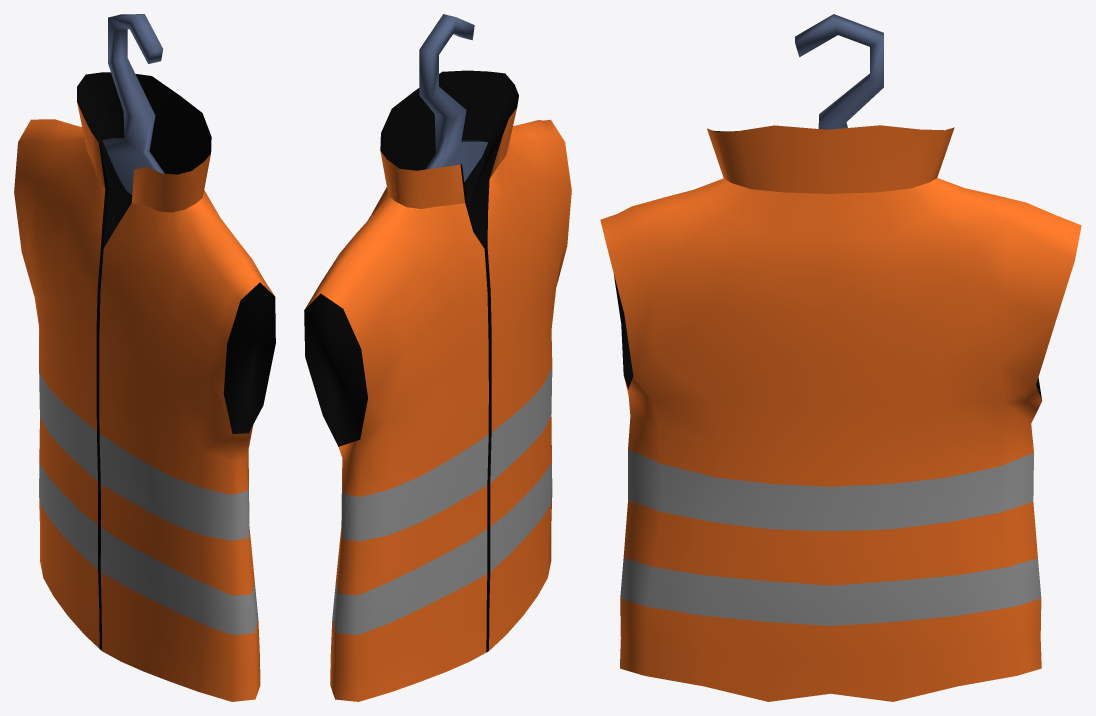
File: special_vest2.fbx
3 renders of one model, left to right at view 1: azimuth 30°, elevation 25°; view 2: azimuth 150°, elevation 25°; view 3: azimuth 270°, elevation 25°, orthographic. The views are drawn at different scales.
Visible parts, largest first — view 1: vest1.002; view 2: vest1.002; view 3: vest1.002.
Part boxes in pixels (x1,y1,x2,y2): vest1.002: (14,14,275,701); vest1.002: (304,14,571,701); vest1.002: (600,14,1081,701).
Size of the model in its own units: 0.2517 by 1.57 by 1.04.
